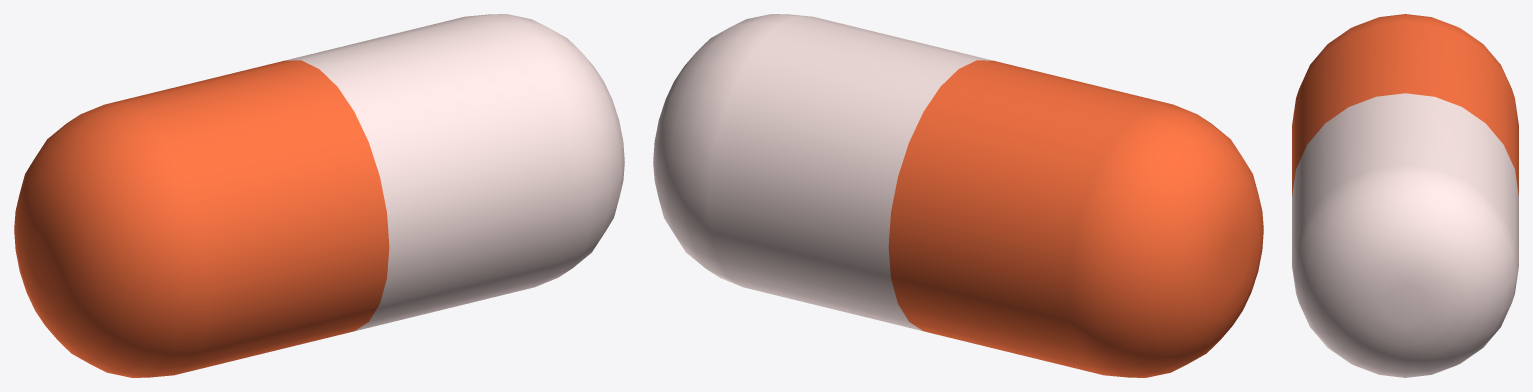
File: Store_15_Pill_1.glb
3 views of the same model, side by side, from view 1: azimuth 30°, elevation 25°; view 2: azimuth 150°, elevation 25°; view 3: azimuth 270°, elevation 25° (orthographic). The views are drawn at different scales.
Visible parts, largest first — view 1: Store_15_Pill_1; view 2: Store_15_Pill_1; view 3: Store_15_Pill_1.
Part boxes in pixels (x1,y1,x2,y2): Store_15_Pill_1: (14, 14, 624, 377); Store_15_Pill_1: (653, 14, 1263, 377); Store_15_Pill_1: (1292, 14, 1518, 377).
Size of the model in its own units: 1.76 by 0.7695 by 0.7695.
Materials: 1 (1 with a texture image).
